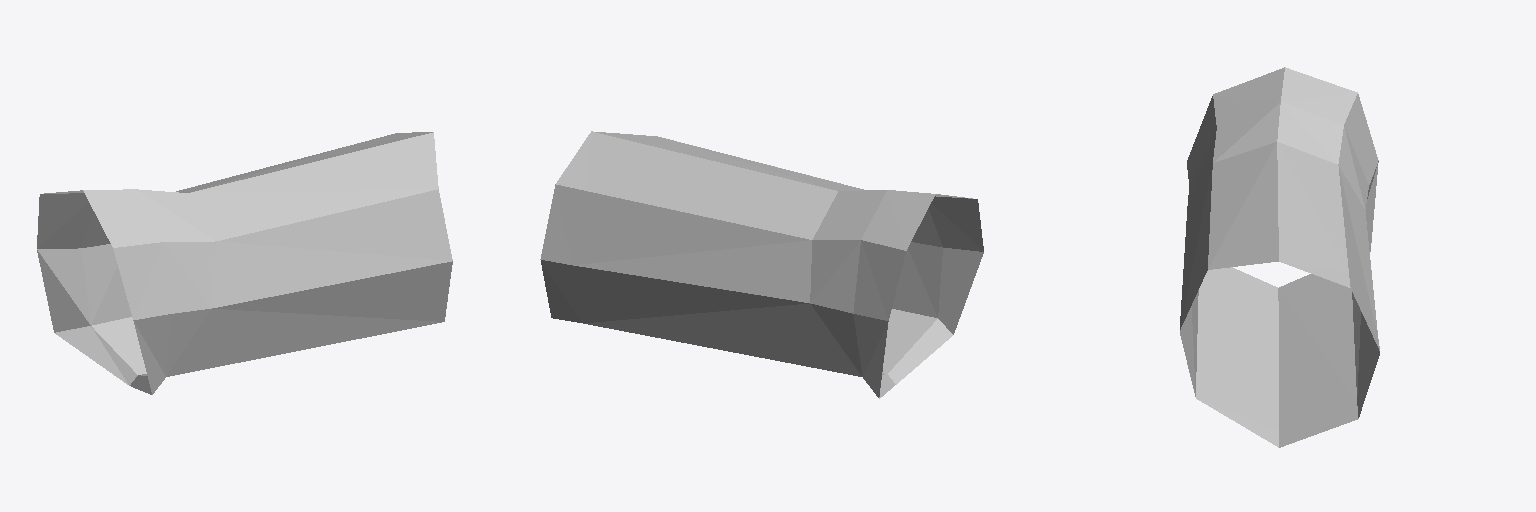
Rendered from up_arms_L.obj.
3 views of the same model, side by side, from view 1: azimuth 30°, elevation 25°; view 2: azimuth 150°, elevation 25°; view 3: azimuth 270°, elevation 25° (orthographic).
Visible parts, largest first — view 1: KERORO; view 2: KERORO; view 3: KERORO.
Boxes of the visible parts, x1,y1,x2,y2 form: KERORO: [37, 132, 452, 394]; KERORO: [540, 131, 983, 398]; KERORO: [1180, 67, 1379, 447].
Size of the model in its own units: 1.04 by 0.5908 by 0.5098.